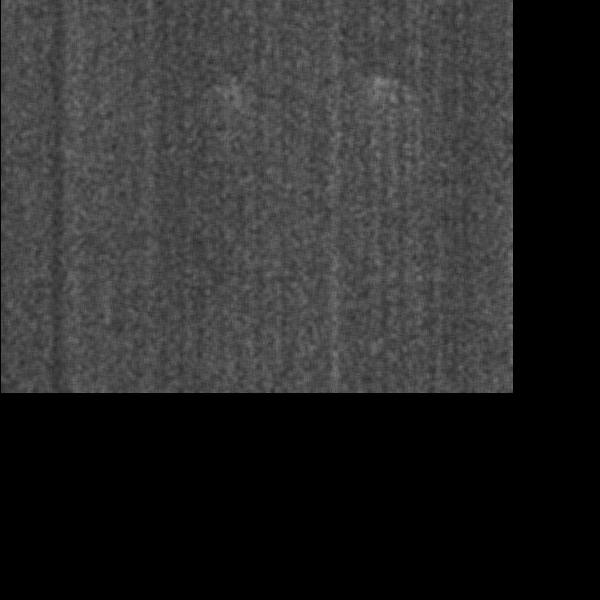spark: (282, 285, 303, 347), (389, 349, 447, 366)
